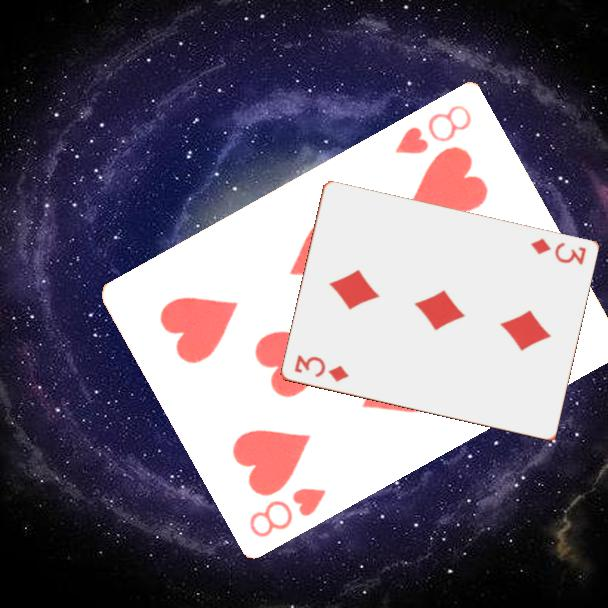d03: (290, 351, 351, 385), (527, 235, 589, 268)
h08: (245, 483, 330, 540), (391, 100, 475, 157)
